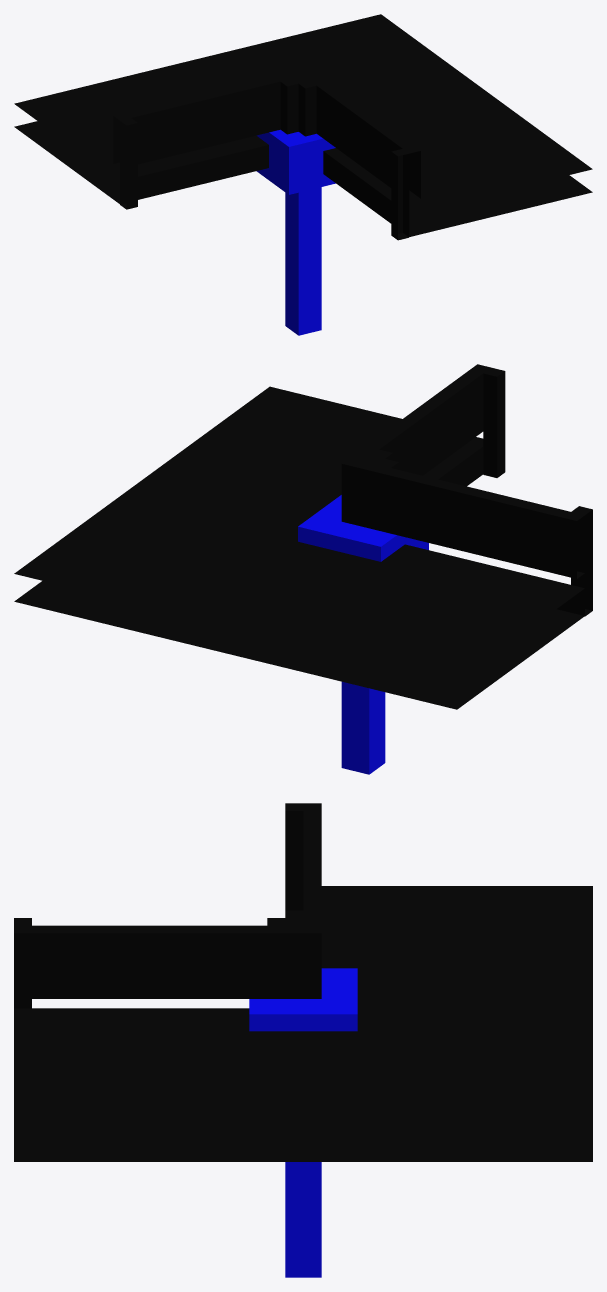
File: BigStrut_P_P_E_E_P_E_E_E_None.fbx
3 renders of one model, top to bottom at view 1: azimuth 30°, elevation 25°; view 2: azimuth 150°, elevation 25°; view 3: azimuth 270°, elevation 25°, orthographic. The views are drawn at different scales.
Visible parts, largest first — view 1: BigStrut_P_P_E_E_P_E_E_E_None; view 2: BigStrut_P_P_E_E_P_E_E_E_None; view 3: BigStrut_P_P_E_E_P_E_E_E_None.
Part boxes in pixels (box(x1,y1,x2,y2)): BigStrut_P_P_E_E_P_E_E_E_None: box(14, 14, 592, 335); BigStrut_P_P_E_E_P_E_E_E_None: box(14, 364, 592, 774); BigStrut_P_P_E_E_P_E_E_E_None: box(14, 803, 592, 1277).
Bounding box in the file's own units: 100 × 65.62 × 100.
